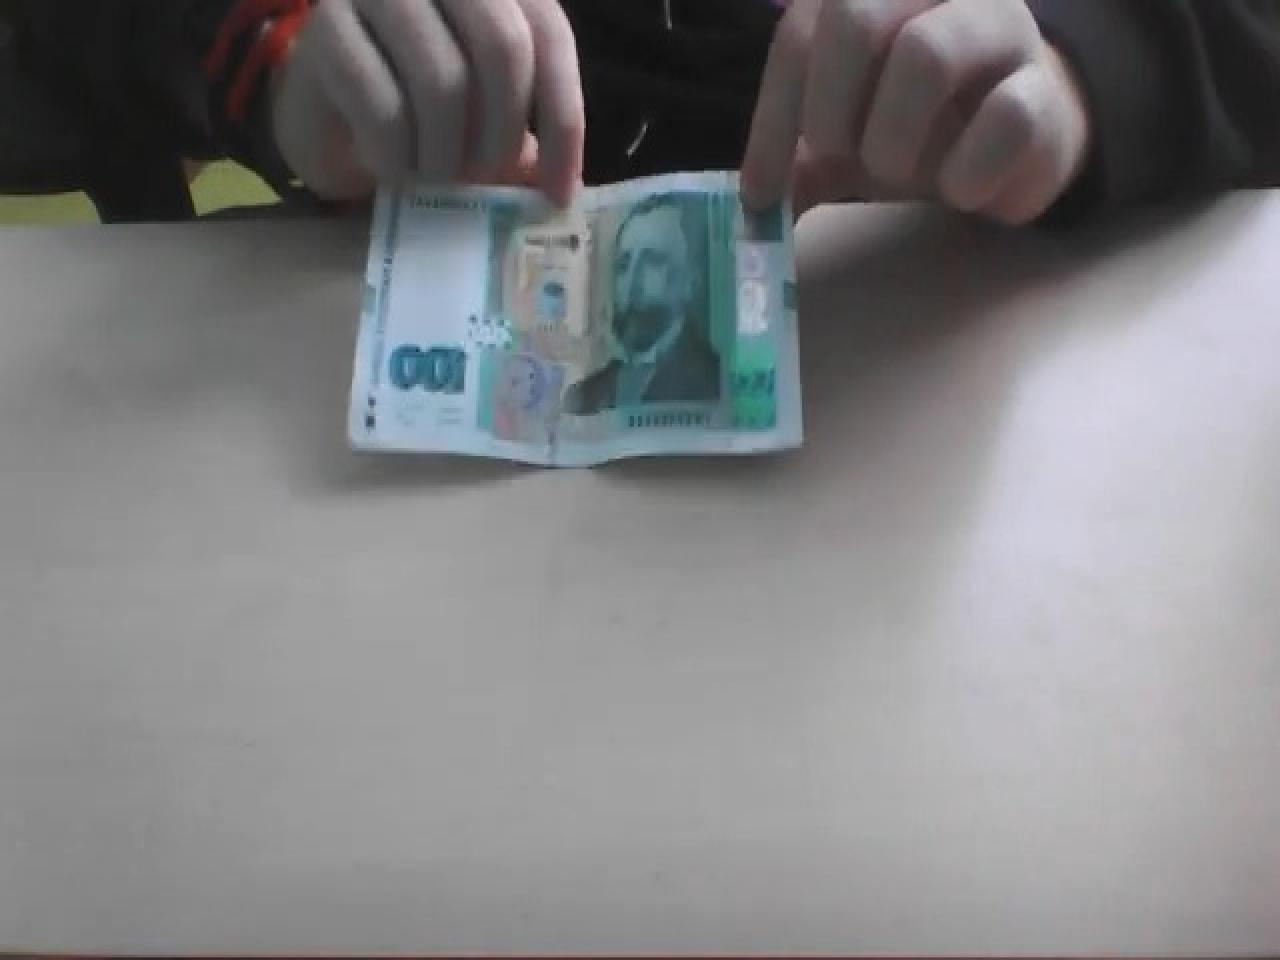100leva: (344, 162, 806, 472)
